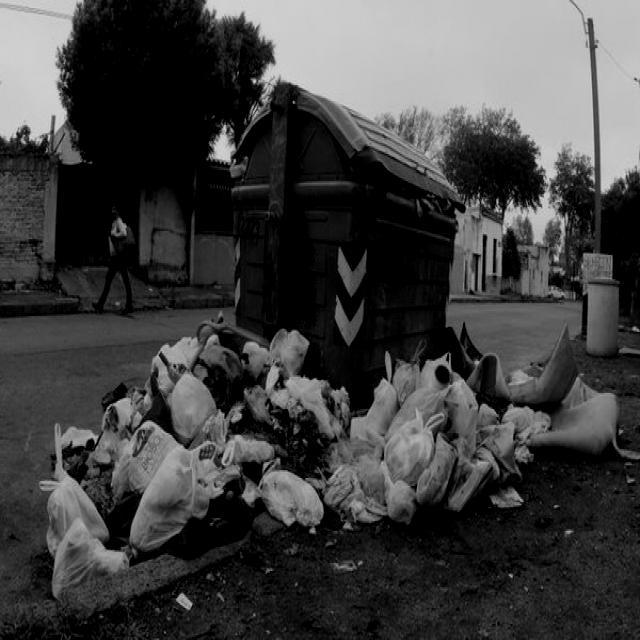high trash: (40, 319, 640, 611)
